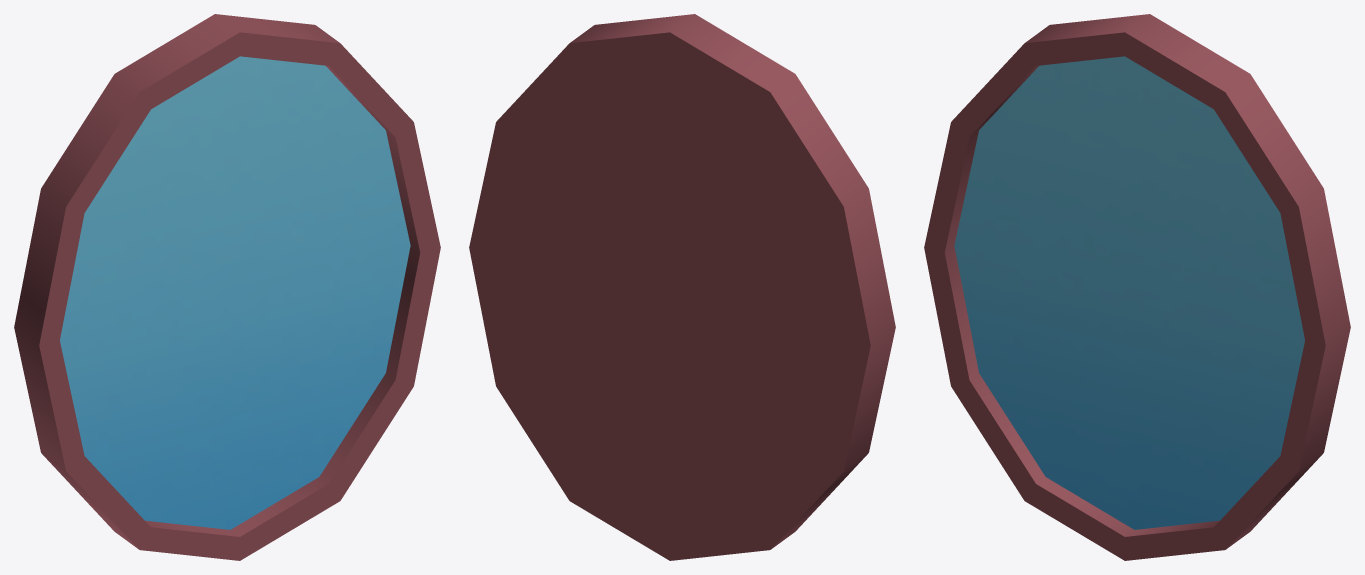
File: SM_Mirror_Entrance_1_02.fbx
The picture shows the model from 3 angles, left to right: view 1: azimuth 30°, elevation 25°; view 2: azimuth 150°, elevation 25°; view 3: azimuth 330°, elevation 25°; orthographic projection.
Parts seen in each view (by area): view 1: SM_Mirror_Entrance_1_02; view 2: SM_Mirror_Entrance_1_02; view 3: SM_Mirror_Entrance_1_02.
Boxes of the visible parts, x1,y1,x2,y2 form: SM_Mirror_Entrance_1_02: [14, 14, 440, 560]; SM_Mirror_Entrance_1_02: [469, 14, 895, 560]; SM_Mirror_Entrance_1_02: [924, 14, 1350, 560].
Bounding box in the file's own units: 94.38 × 119 × 10.2.
